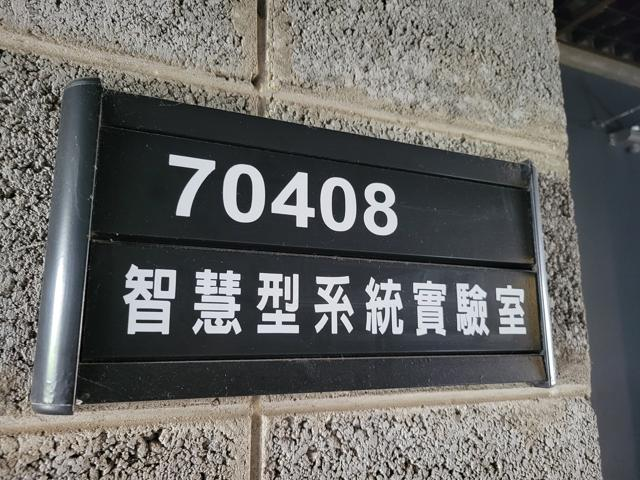doorplate: (16, 64, 567, 420)
